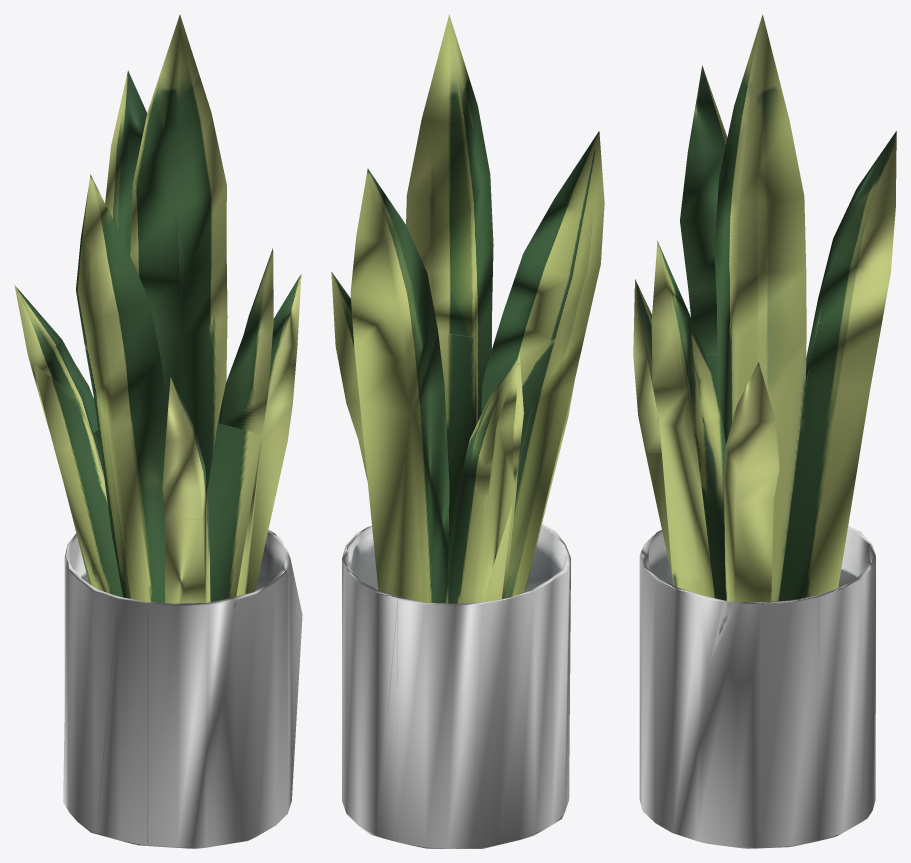
The model's file is snake_plant.fbx.
The picture shows the model from 3 angles, left to right: view 1: azimuth 30°, elevation 25°; view 2: azimuth 150°, elevation 25°; view 3: azimuth 270°, elevation 25°; orthographic projection.
Parts seen in each view (by area): view 1: Mesh_0; view 2: Mesh_0; view 3: Mesh_0.
Part boxes in pixels (box(x1,y1,x2,y2)): Mesh_0: box(14, 14, 302, 848); Mesh_0: box(331, 14, 604, 848); Mesh_0: box(633, 14, 896, 848).
Bounding box in the file's own units: 30.27 × 95.17 × 28.71.
Materials: 1 (1 with a texture image).
